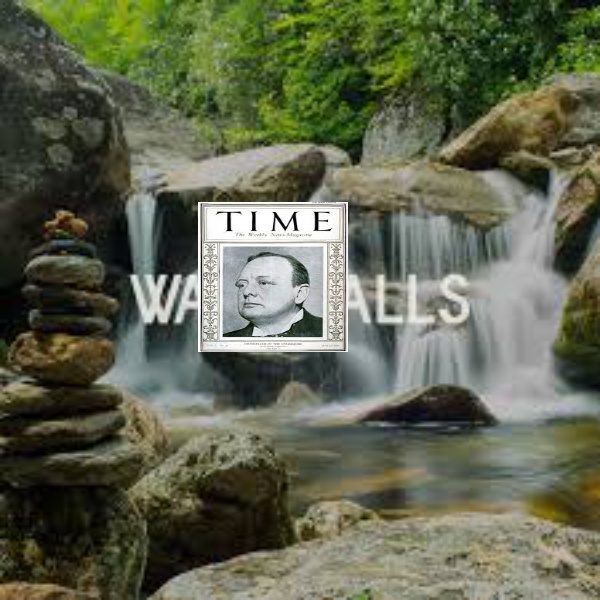time_cover: (190, 194, 353, 356)
